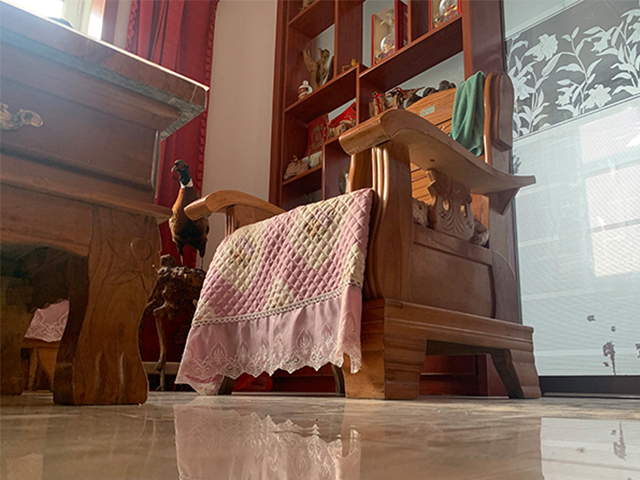sofa: (175, 70, 543, 402)
table: (1, 2, 207, 405)
